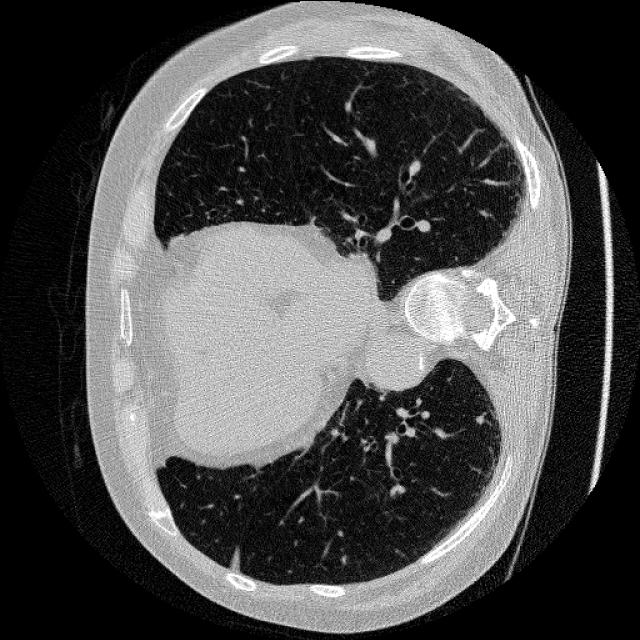nodule: (469, 408, 489, 428)
